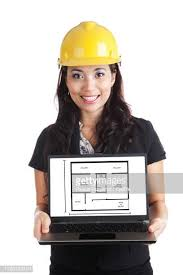Person_wearing_helmet: (49, 17, 119, 98)
